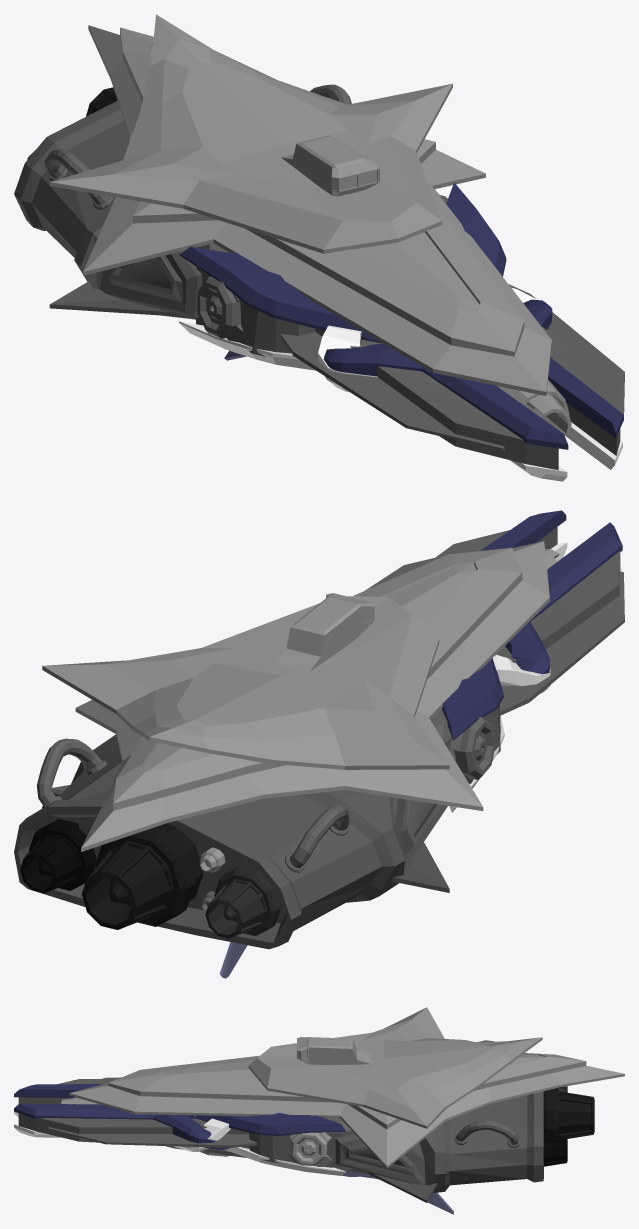
File: DSG_Dreadnova_UNW.FBX
3 renders of one model, top to bottom at view 1: azimuth 30°, elevation 25°; view 2: azimuth 150°, elevation 25°; view 3: azimuth 270°, elevation 25°, orthographic. The views are drawn at different scales.
Visible parts, largest first — view 1: Box004, Box003, Box002, Box001, Box007, Box014, Box005, Cylinder012, Box006, Line001, Cylinder014; view 2: Box004, Box003, Box007, Cylinder004, Box002, Box001, Box005, Cylinder015, Cylinder016, Line001, Cylinder012, Box006 (+1 smaller); view 3: Box003, Box004, Box007, Box002, Box001, Cylinder004, Box005, Box014, Cylinder013, Box006, Line001, Cylinder016 (+1 smaller).
Boxes of the visible parts, bbox=[...] form: Box004: bbox=[49, 14, 452, 253]; Box003: bbox=[83, 25, 551, 395]; Box002: bbox=[196, 195, 624, 470]; Box001: bbox=[180, 182, 623, 449]; Box007: bbox=[14, 100, 438, 318]; Box014: bbox=[179, 287, 622, 481]; Box005: bbox=[281, 135, 379, 196]; Cylinder012: bbox=[197, 273, 243, 342]; Box006: bbox=[49, 281, 195, 319]; Line001: bbox=[44, 84, 351, 209]; Cylinder014: bbox=[497, 379, 571, 434]; Box004: bbox=[42, 596, 449, 769]; Box003: bbox=[75, 541, 549, 851]; Box007: bbox=[14, 734, 456, 949]; Cylinder004: bbox=[82, 823, 203, 929]; Box002: bbox=[365, 527, 624, 754]; Box001: bbox=[441, 510, 622, 740]; Box005: bbox=[274, 593, 374, 672]; Cylinder015: bbox=[205, 864, 281, 938]; Cylinder016: bbox=[20, 818, 96, 893]; Line001: bbox=[37, 738, 349, 872]; Cylinder012: bbox=[449, 716, 495, 783]; Box006: bbox=[52, 785, 449, 892]; Box003: bbox=[69, 1053, 624, 1168]; Box004: bbox=[248, 1007, 542, 1128]; Box007: bbox=[335, 1091, 543, 1192]; Box002: bbox=[18, 1077, 354, 1171]; Box001: bbox=[14, 1084, 345, 1149]; Cylinder004: bbox=[543, 1087, 594, 1138]; Box005: bbox=[297, 1037, 371, 1064]; Box014: bbox=[14, 1111, 345, 1175]; Cylinder013: bbox=[288, 1132, 332, 1166]; Box006: bbox=[165, 1146, 437, 1202]; Line001: bbox=[454, 1040, 520, 1148]; Cylinder016: bbox=[543, 1134, 567, 1166].
Size of the model in its own units: 12.76 by 27.62 by 8.84.
